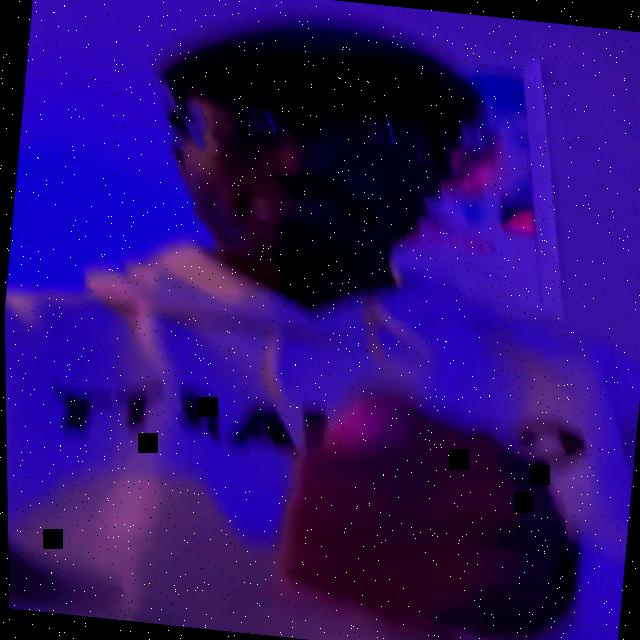Rock: (271, 386, 587, 639)
